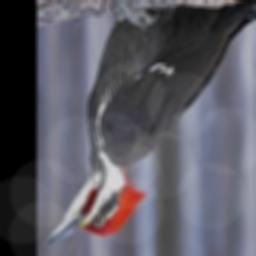Woodpecker: (44, 0, 256, 246)
